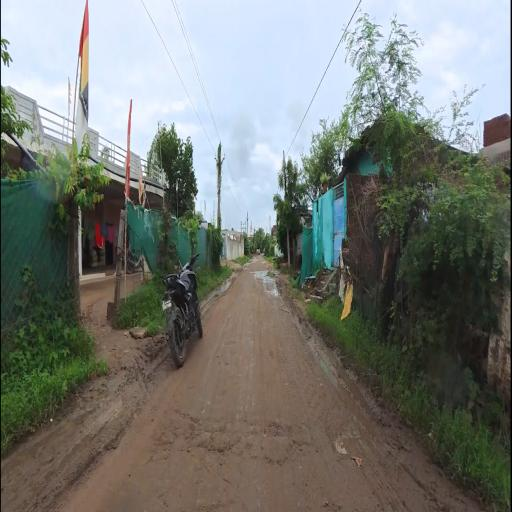ravelling: (149, 387, 338, 493)
